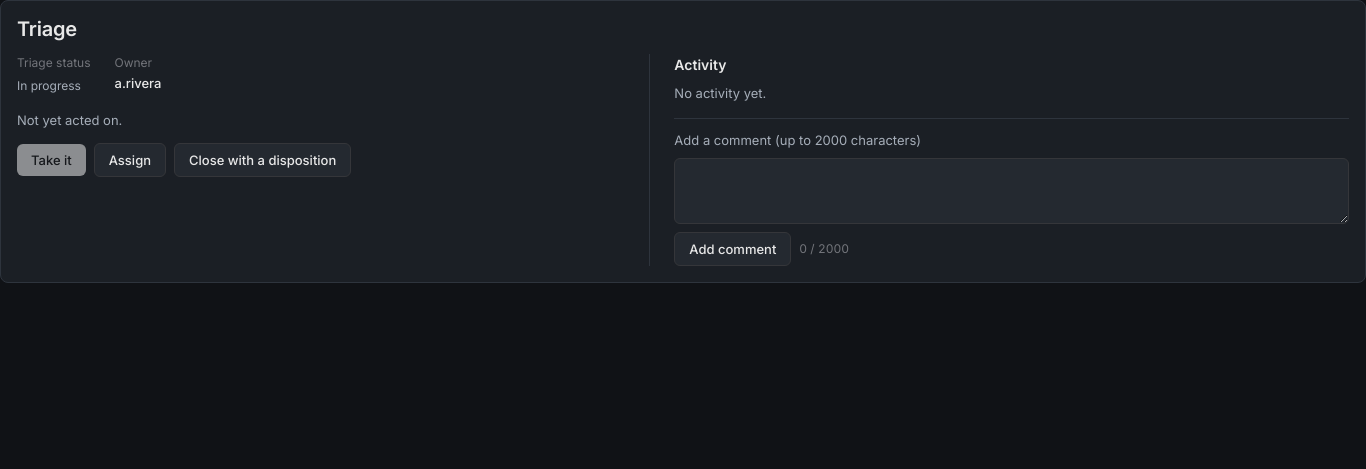
Test: close with a disposition › sends CLOSED, the disposition and the note
This screenshot has width=1366, height=469.
Click the button "Close with a disposition". click: {"x": 263, "y": 160}
box: [174,143,351,177]
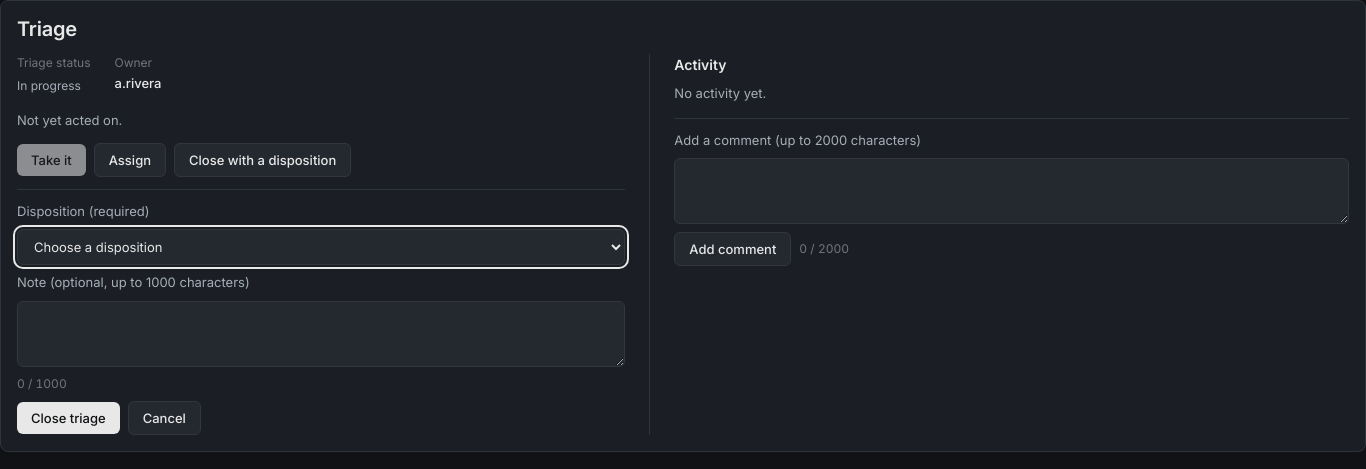
Select "Noise" in the dropdown labelled "Disposition (required)". click: {"x": 321, "y": 247}
box: [17,229,625,265]
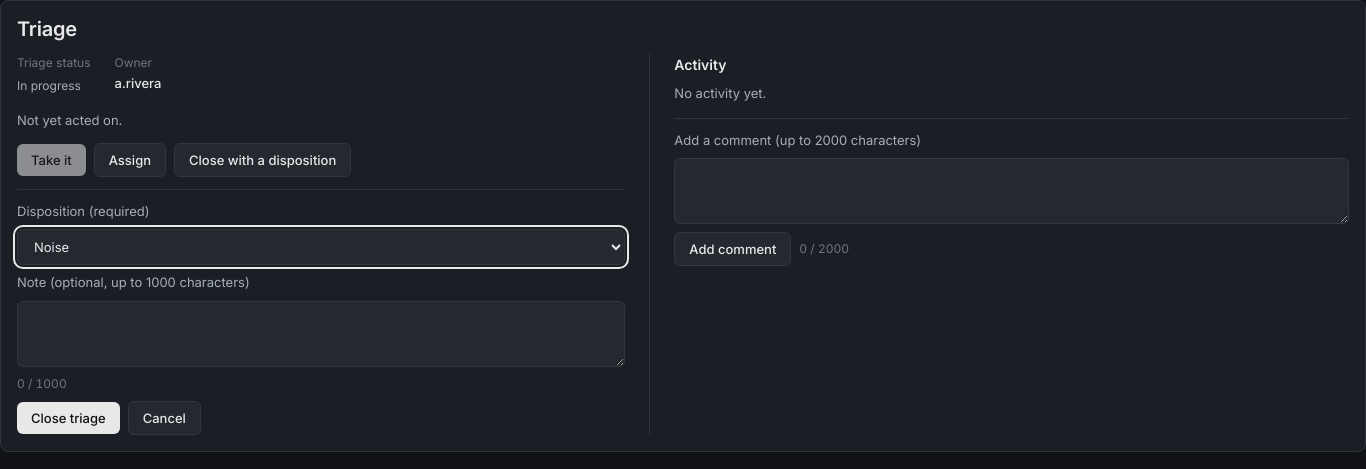
Type "  QA load test " into the text box labelled "Note (optional, up to 1000 characters)". click: {"x": 321, "y": 334}
box: [17,301,625,367]
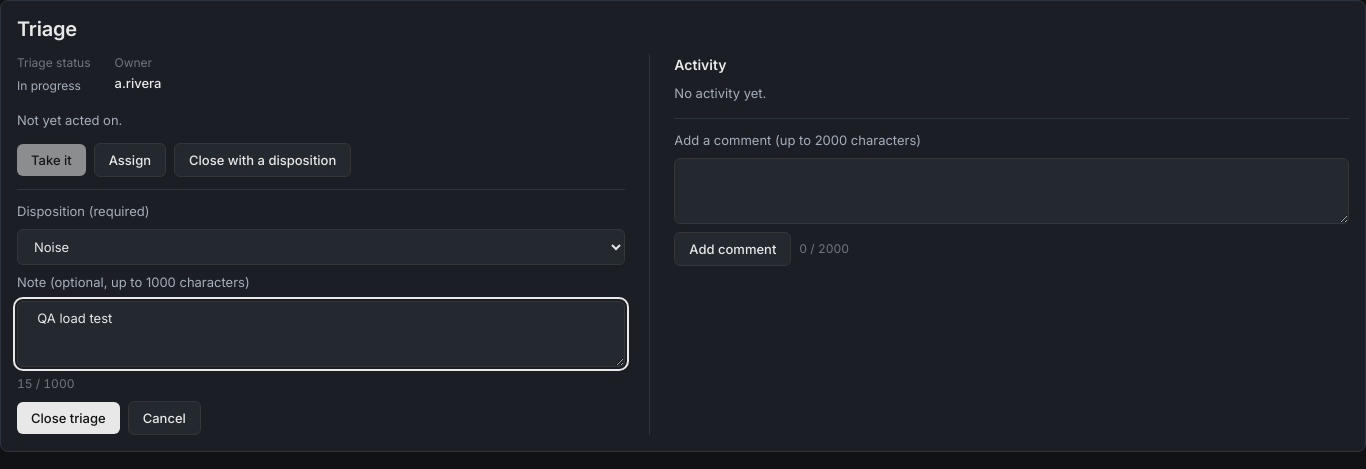
Click the button "Close triage". click: {"x": 68, "y": 418}
box: [17,402,120,434]
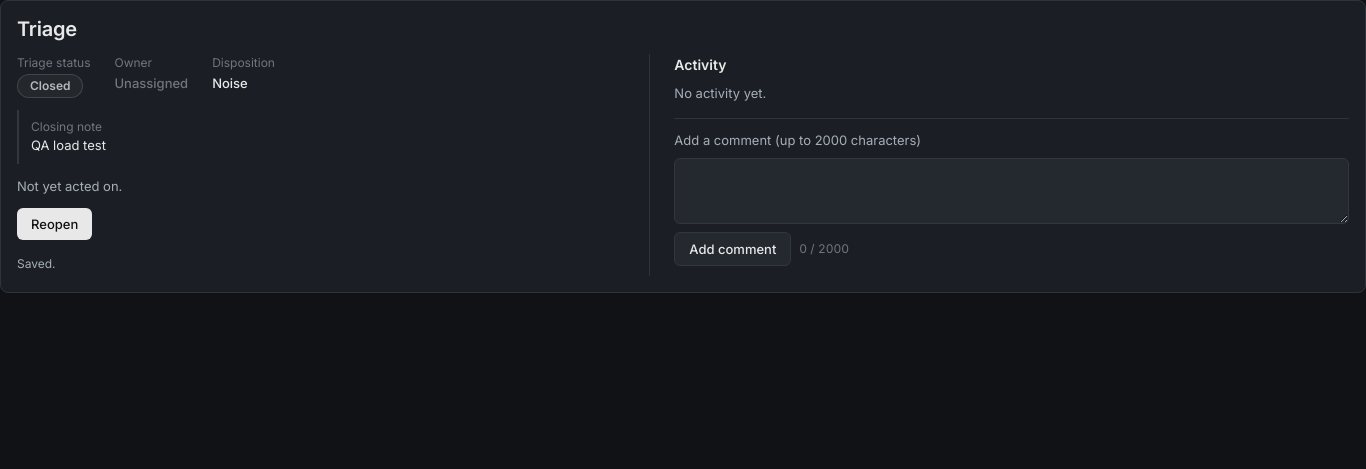
Result: the text "Closed" is shown at [17,74,84,98]
